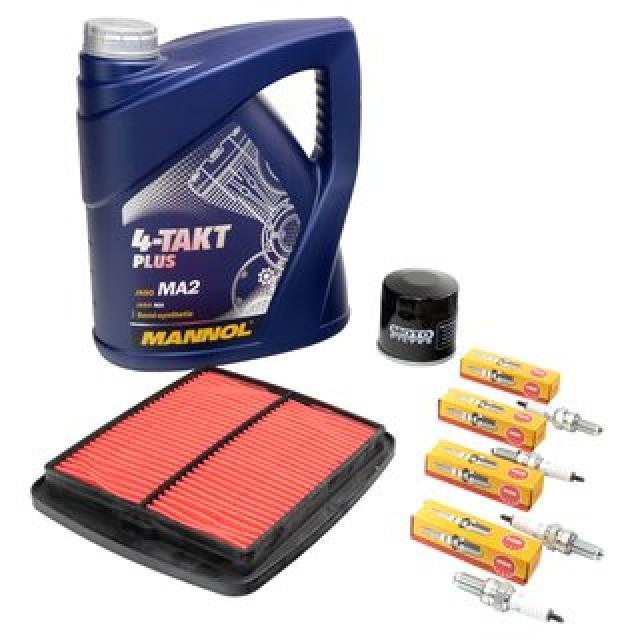air_filter: (23, 363, 407, 598)
motor_oil: (75, 13, 364, 374)
oil_filter: (378, 266, 466, 367)
